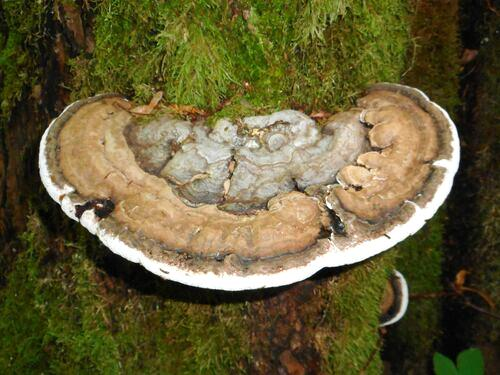Ganoderma - Fruit Body: (29, 81, 465, 300)
